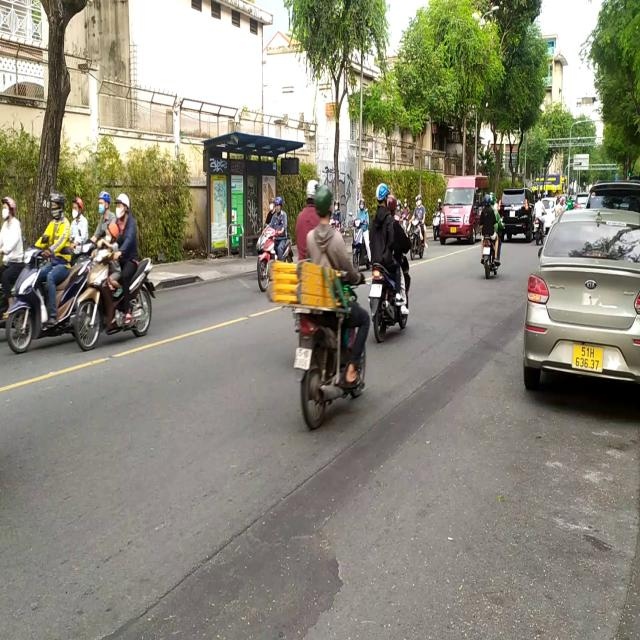bien_vang: (570, 340, 606, 375)
